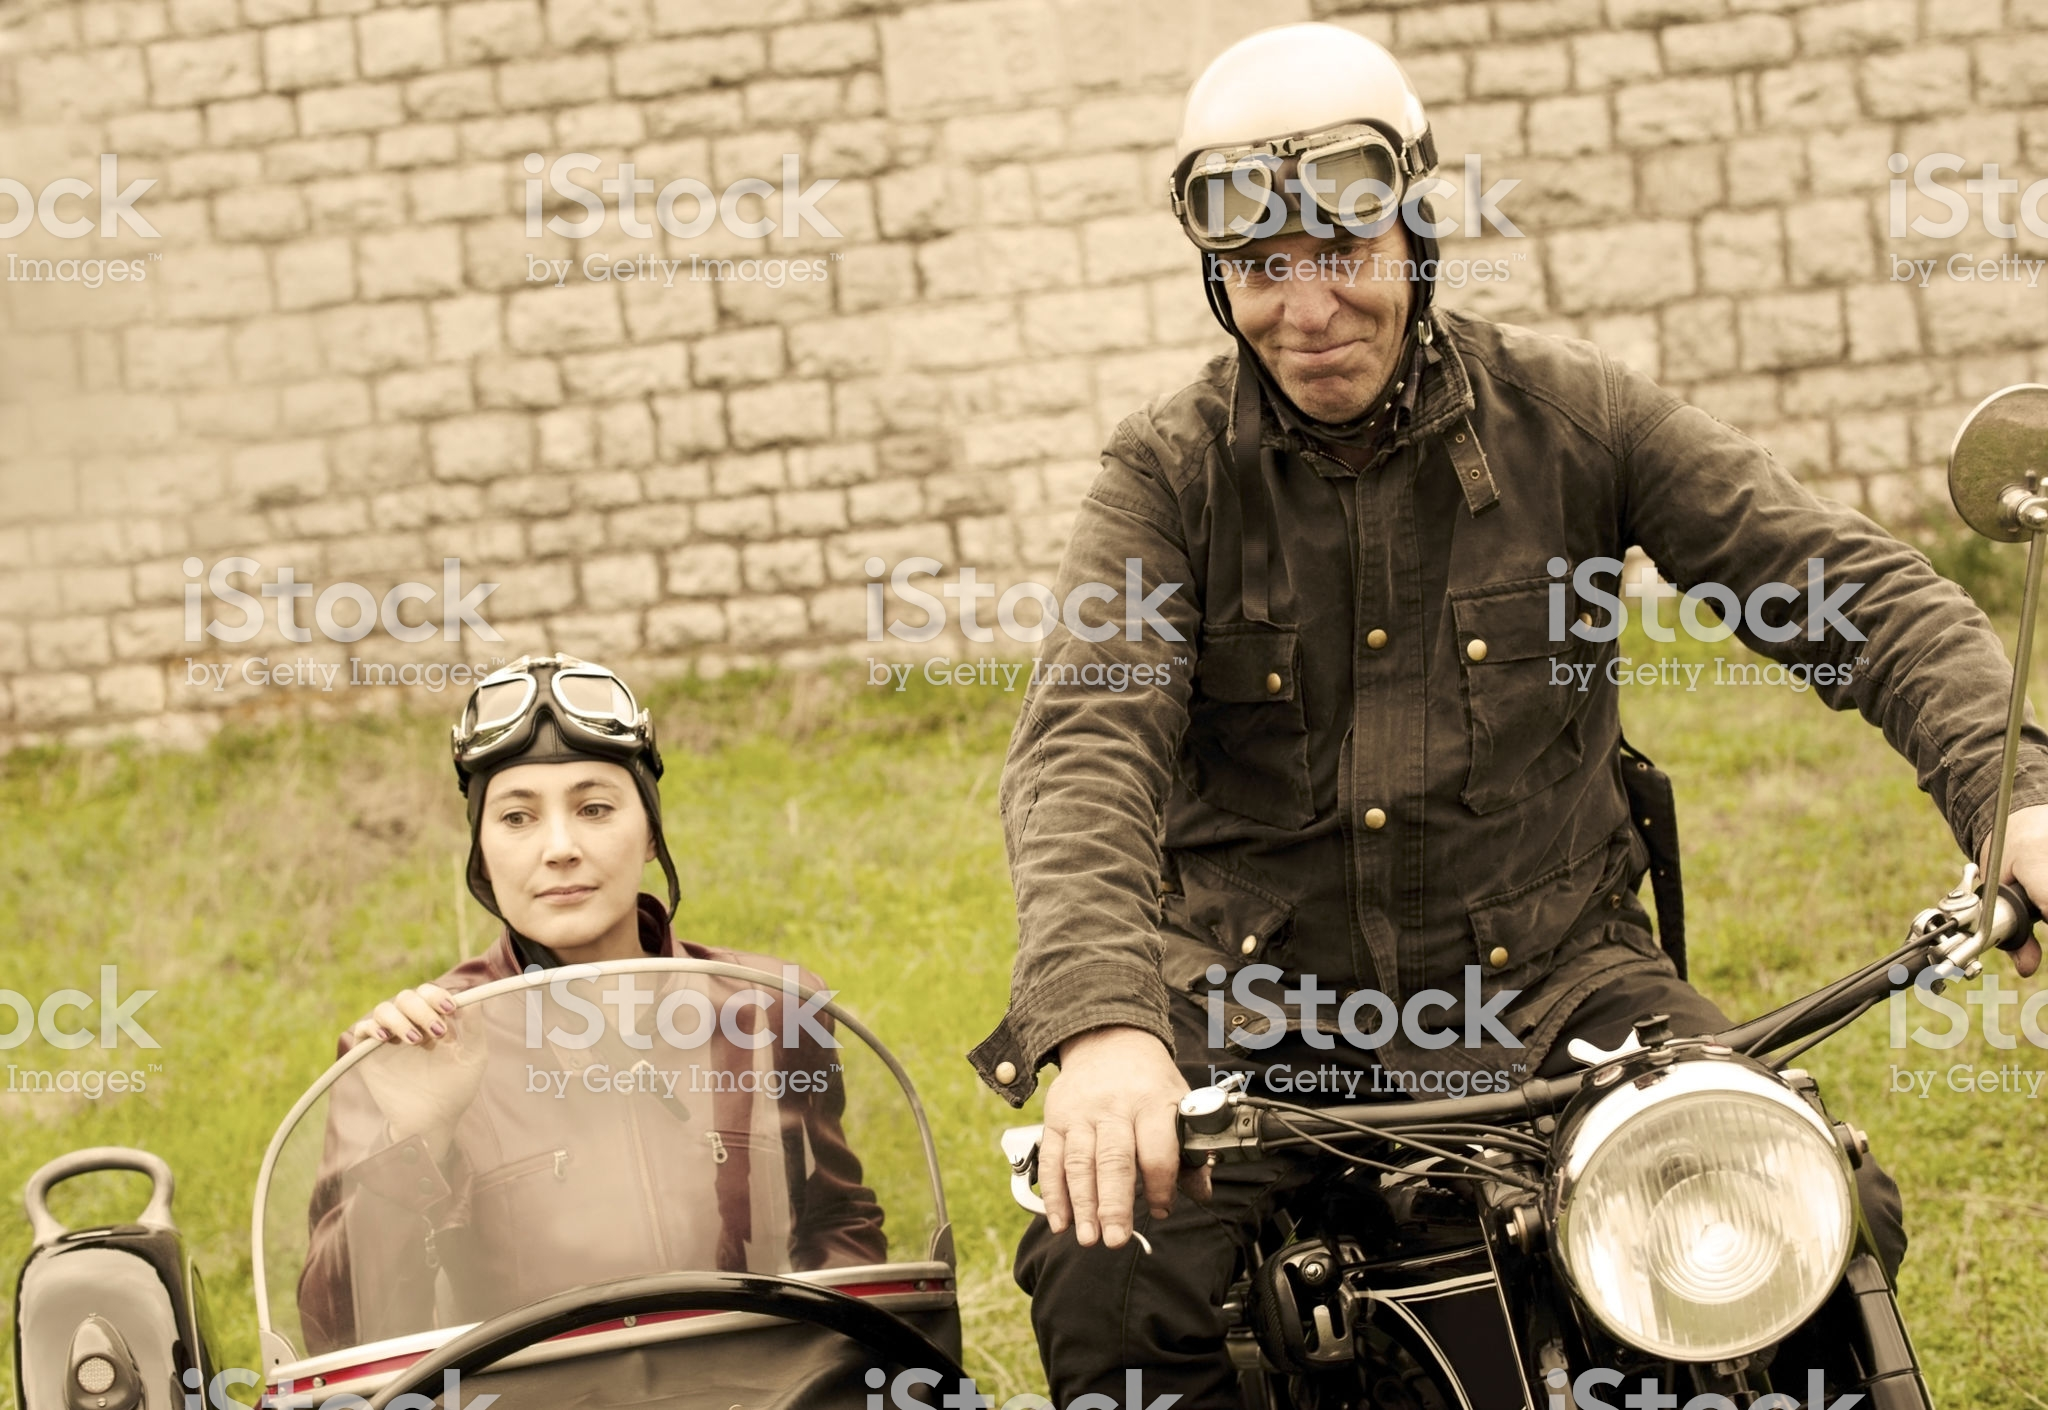helmet: (1145, 20, 1441, 223), (465, 633, 668, 773)
